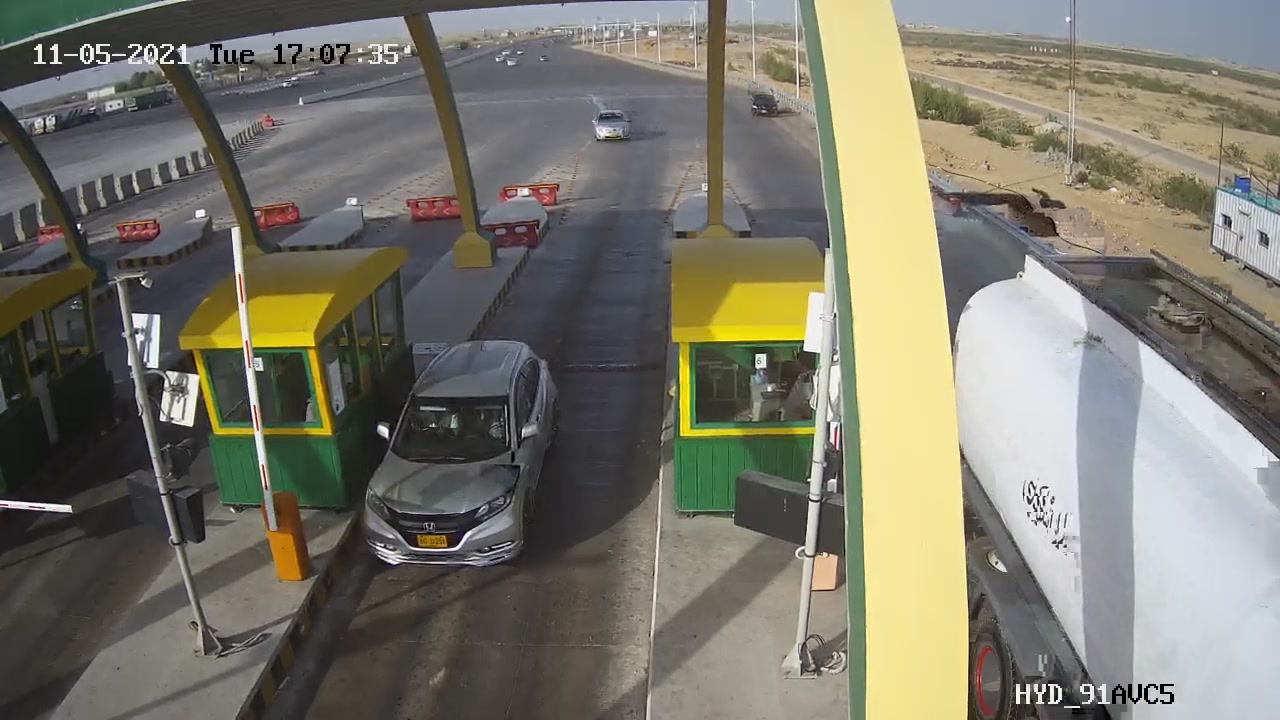F1: (338, 327, 576, 586)
